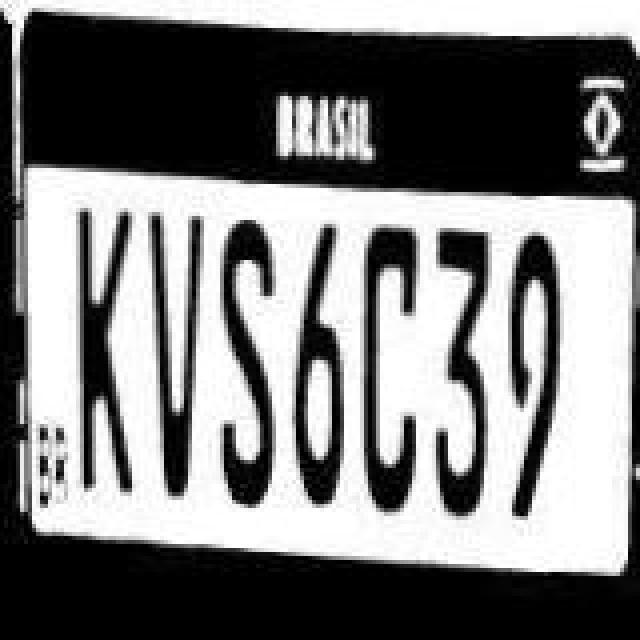3: (426, 234, 490, 530)
6: (278, 210, 350, 518)
9: (494, 224, 566, 532)
C: (354, 226, 418, 526)
K: (76, 212, 152, 520)
S: (214, 218, 286, 522)
V: (148, 210, 208, 522)
